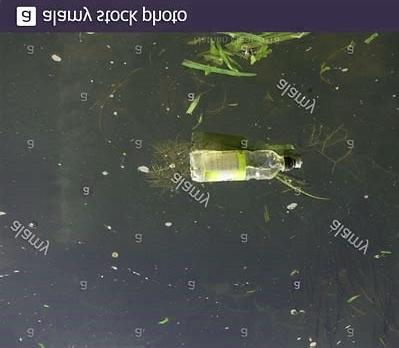Plastic: (189, 148, 303, 180)
